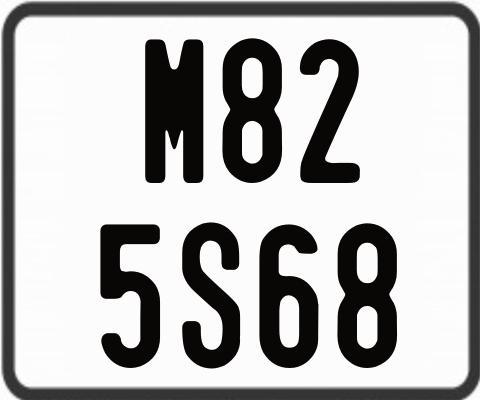2: (300, 36, 363, 181)
5: (98, 224, 162, 373)
6: (258, 224, 317, 374)
8: (219, 38, 283, 189), (334, 222, 397, 369)
M: (142, 36, 202, 185)
S: (182, 219, 242, 365)
